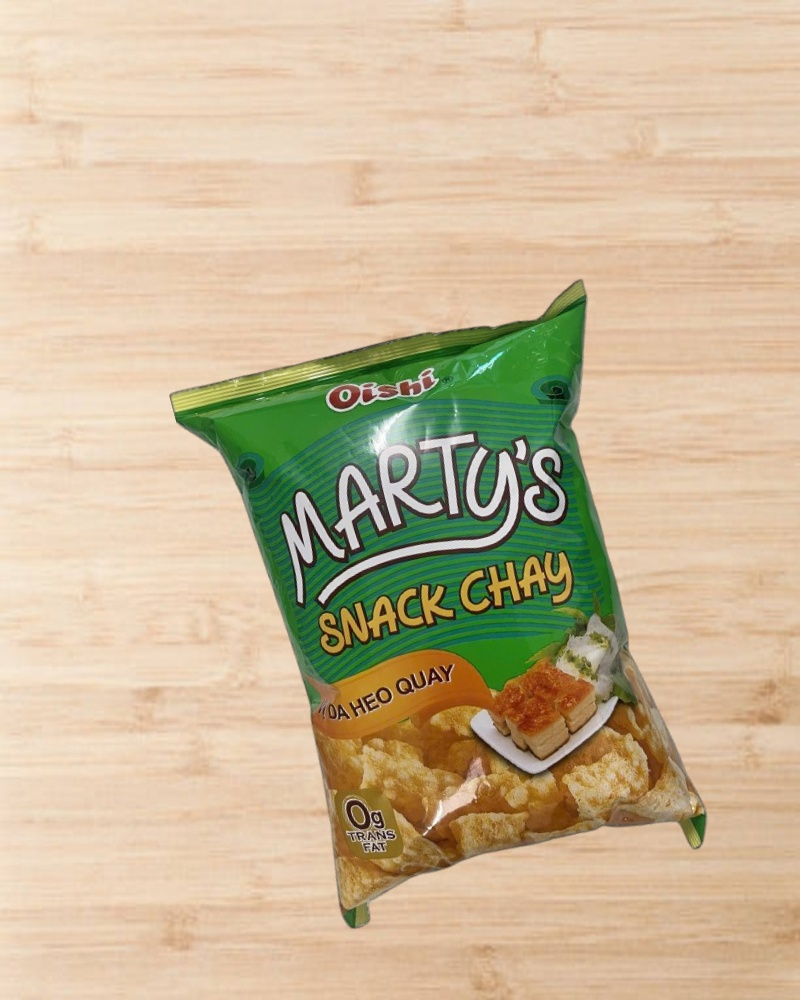Snack chay: (169, 279, 733, 950)
